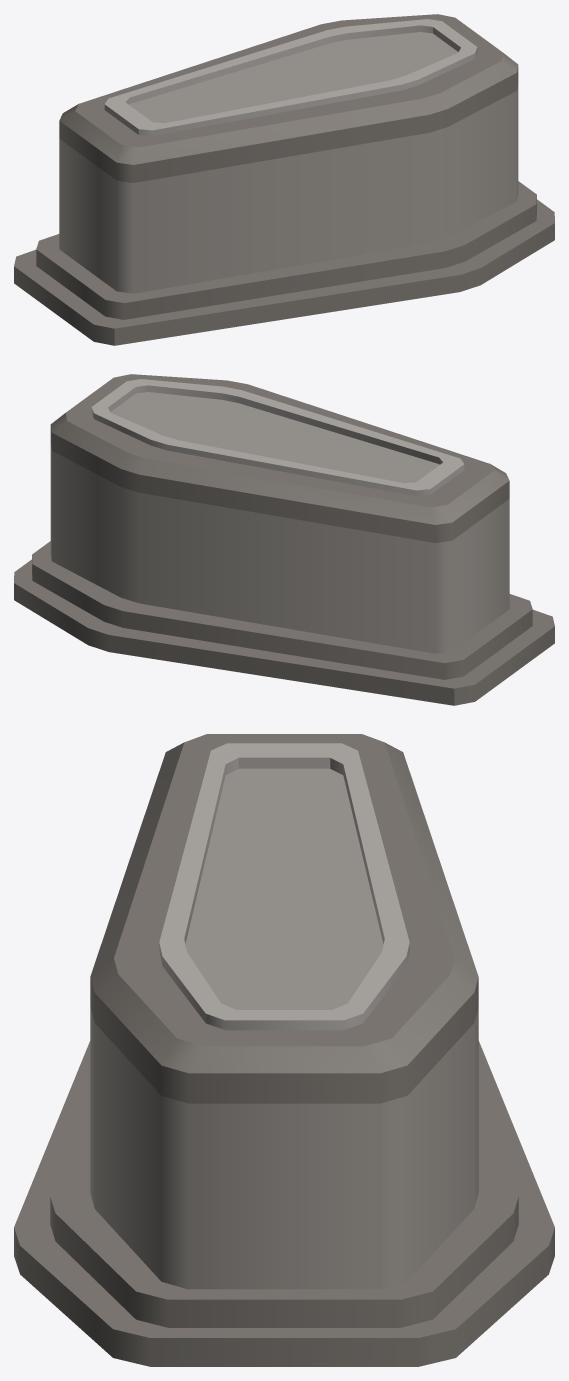
File: Coffin 01.FBX
3 views of the same model, one above another, from view 1: azimuth 30°, elevation 25°; view 2: azimuth 150°, elevation 25°; view 3: azimuth 270°, elevation 25° (orthographic). The views are drawn at different scales.
Visible parts, largest first — view 1: Coffin 01, Coffin 01 Cover; view 2: Coffin 01, Coffin 01 Cover; view 3: Coffin 01, Coffin 01 Cover.
Part boxes in pixels (x1,y1,x2,y2): Coffin 01: [14, 84, 554, 345]; Coffin 01 Cover: [59, 14, 518, 182]; Coffin 01: [14, 444, 554, 705]; Coffin 01 Cover: [50, 374, 509, 542]; Coffin 01: [14, 1007, 554, 1366]; Coffin 01 Cover: [90, 734, 478, 1103].
Size of the model in its own units: 264 by 98.2 by 160.
1 material, 1 textured.
